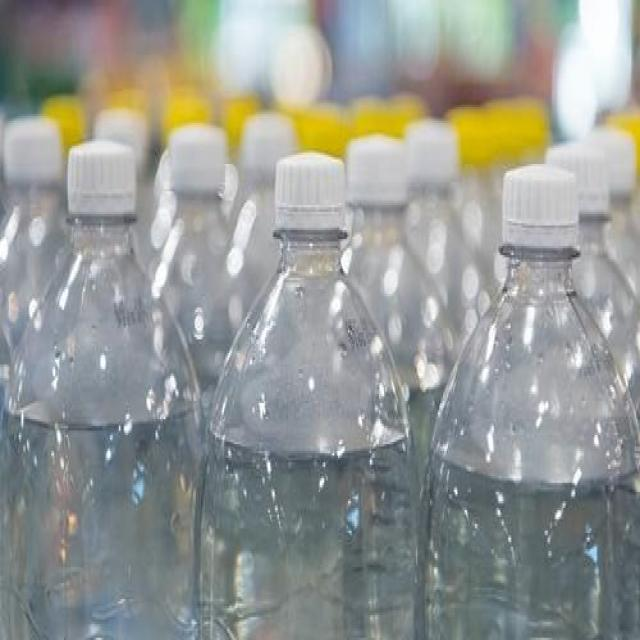plastic_bottle: (216, 149, 422, 640), (430, 165, 640, 640), (3, 149, 197, 640), (152, 116, 247, 364)
